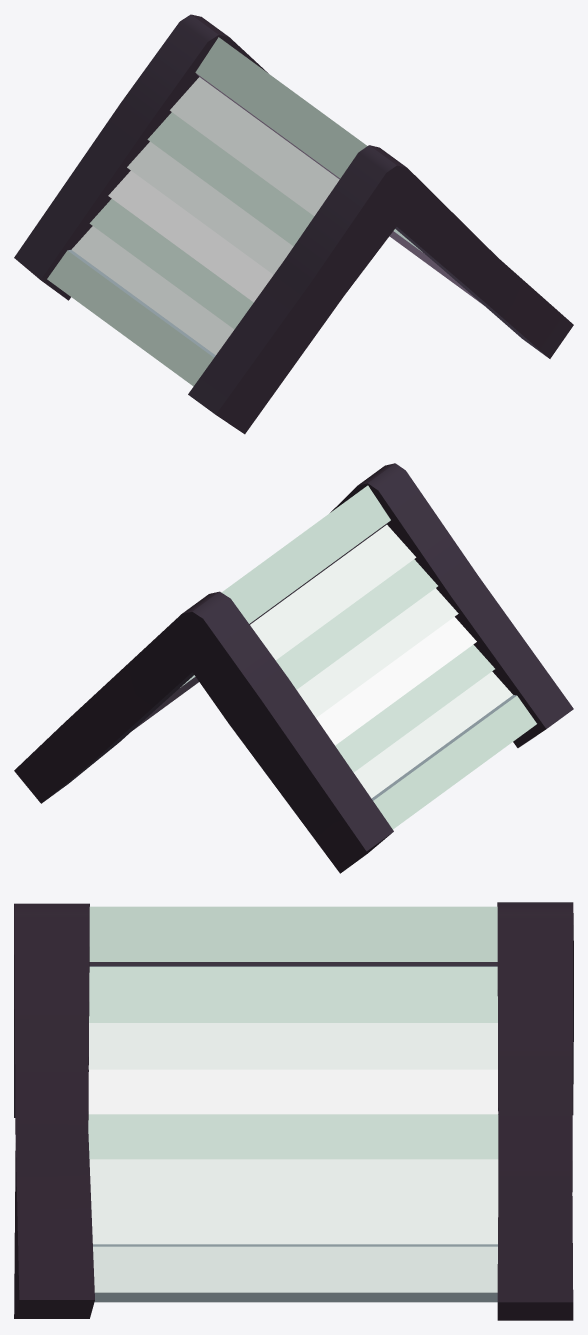
File: Roof03_White_Black.glb
3 views of the same model, one above another, from view 1: azimuth 30°, elevation 25°; view 2: azimuth 150°, elevation 25°; view 3: azimuth 270°, elevation 25° (orthographic). The views are drawn at different scales.
Parts seen in each view (by area): view 1: Roof03_White_Black; view 2: Roof03_White_Black; view 3: Roof03_White_Black.
Boxes of the visible parts, bbox=[...] form: Roof03_White_Black: bbox=[14, 14, 573, 434]; Roof03_White_Black: bbox=[14, 463, 573, 873]; Roof03_White_Black: bbox=[14, 902, 573, 1320].
Size of the model in its own units: 2.41 by 1.48 by 2.38.
1 material, 1 textured.
